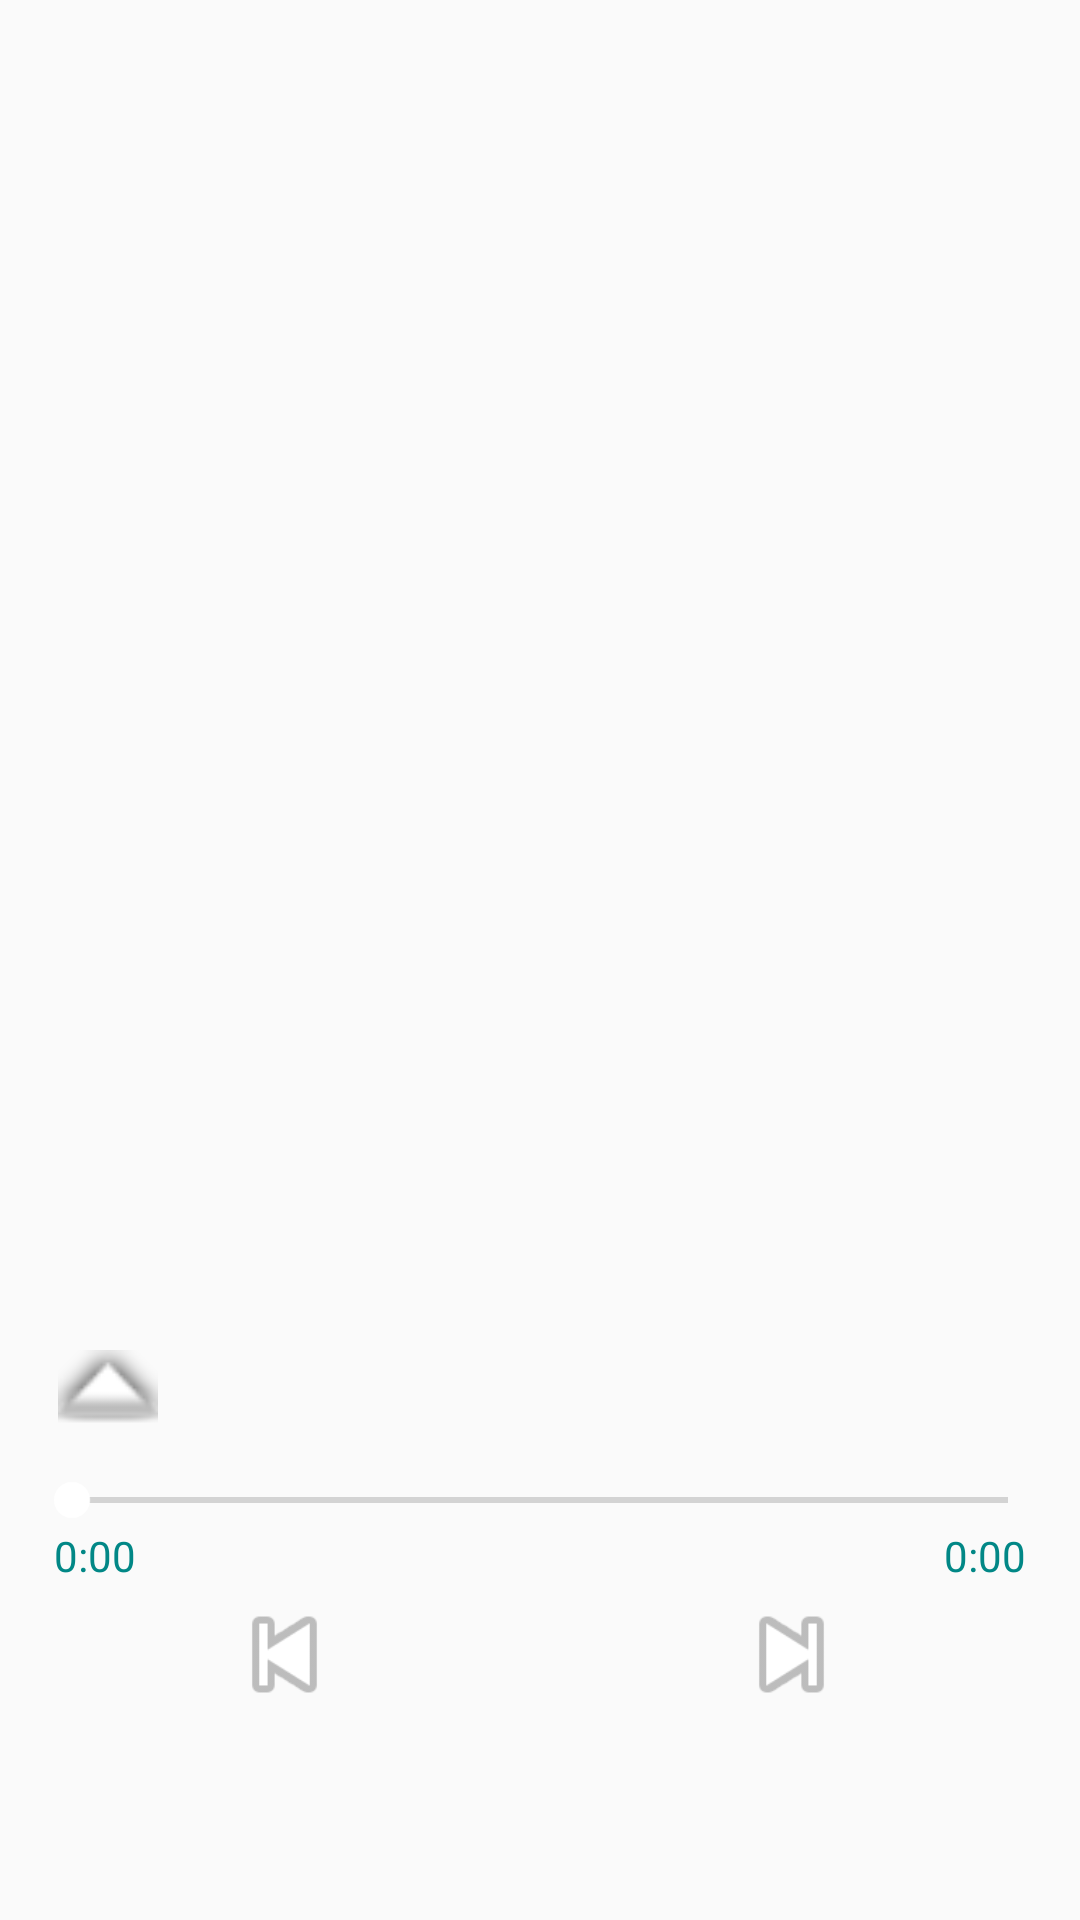

Screen size 1080px x 1920px. Icon name, then its center in pixels as point (x, y):
arrow up float: point (108, 1386)
next: point (791, 1654)
previous: point (284, 1654)
